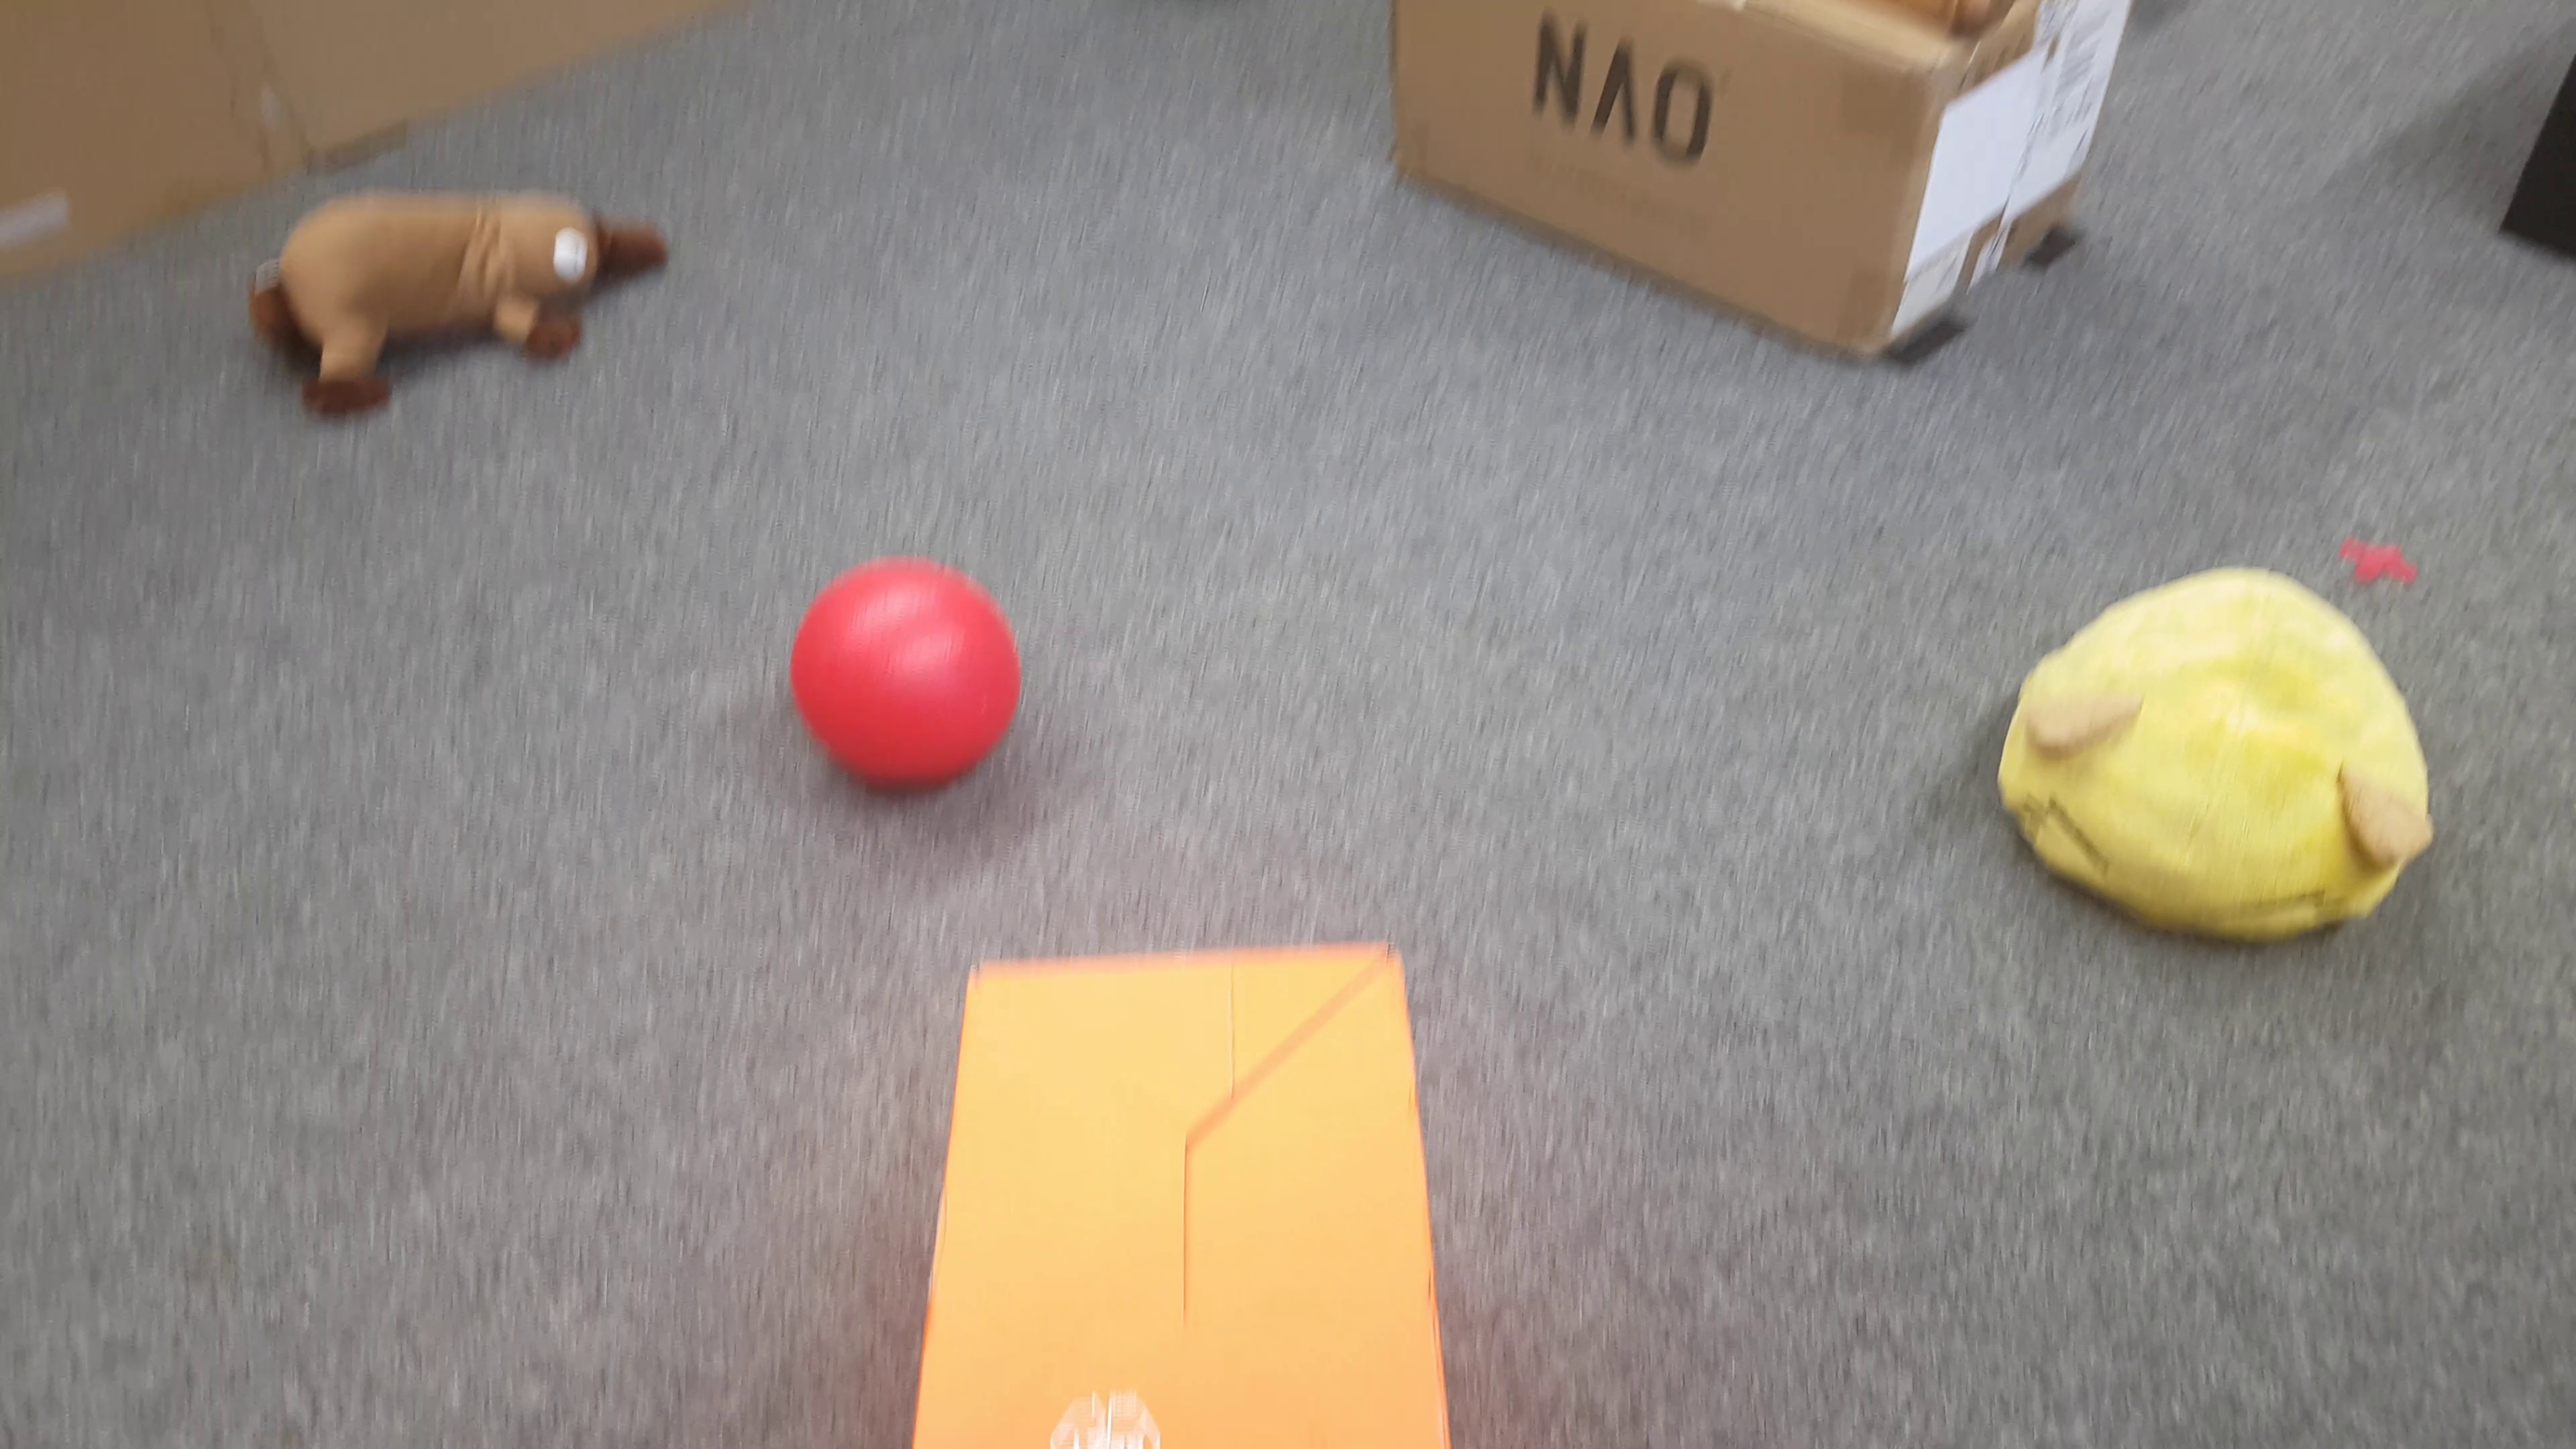grasp: (1996, 564, 2431, 947), (246, 180, 678, 426)
kick: (789, 563, 1024, 796)
push: (913, 955, 1453, 1449)
